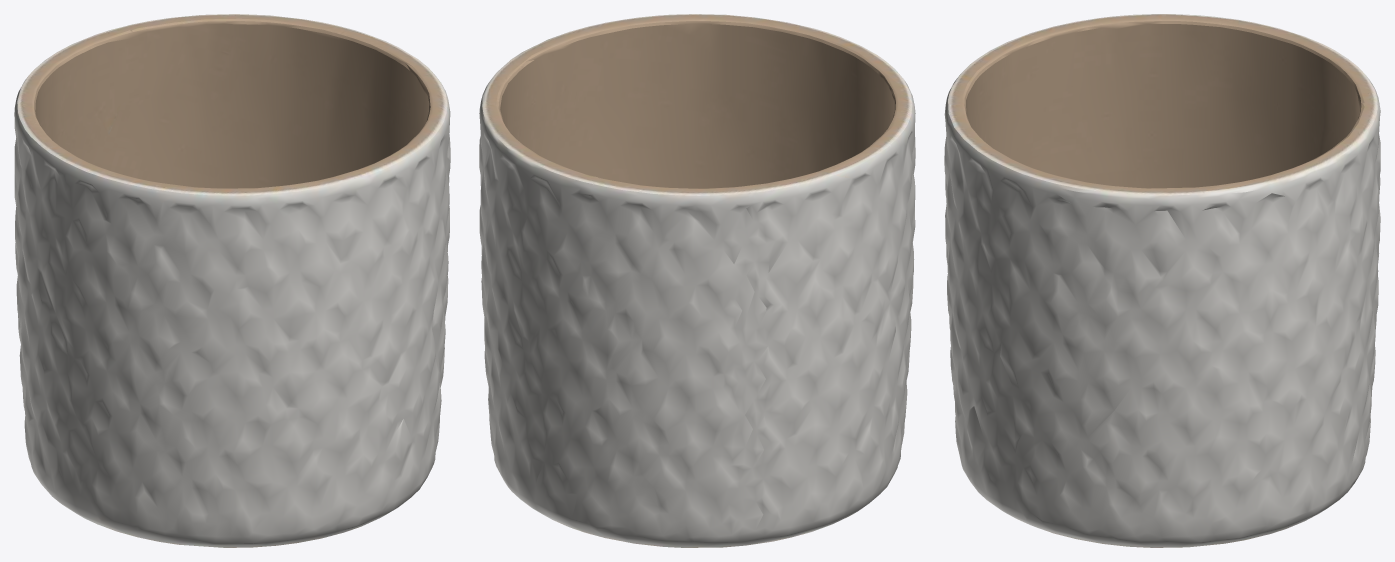
The model's file is 27 - CHIAFRÖN - 花盆，白色，9 公分 IKEA 線上購物.glb.
The picture shows the model from 3 angles, left to right: view 1: azimuth 30°, elevation 25°; view 2: azimuth 150°, elevation 25°; view 3: azimuth 270°, elevation 25°; orthographic projection.
Parts seen in each view (by area): view 1: ProcessedMeshNode; view 2: ProcessedMeshNode; view 3: ProcessedMeshNode.
Boxes of the visible parts, x1,y1,x2,y2 form: ProcessedMeshNode: [14, 14, 450, 547]; ProcessedMeshNode: [479, 14, 915, 547]; ProcessedMeshNode: [944, 14, 1380, 547].
Size of the model in its own units: 0.1093 by 0.1006 by 0.1092.
1 material, 1 textured.
